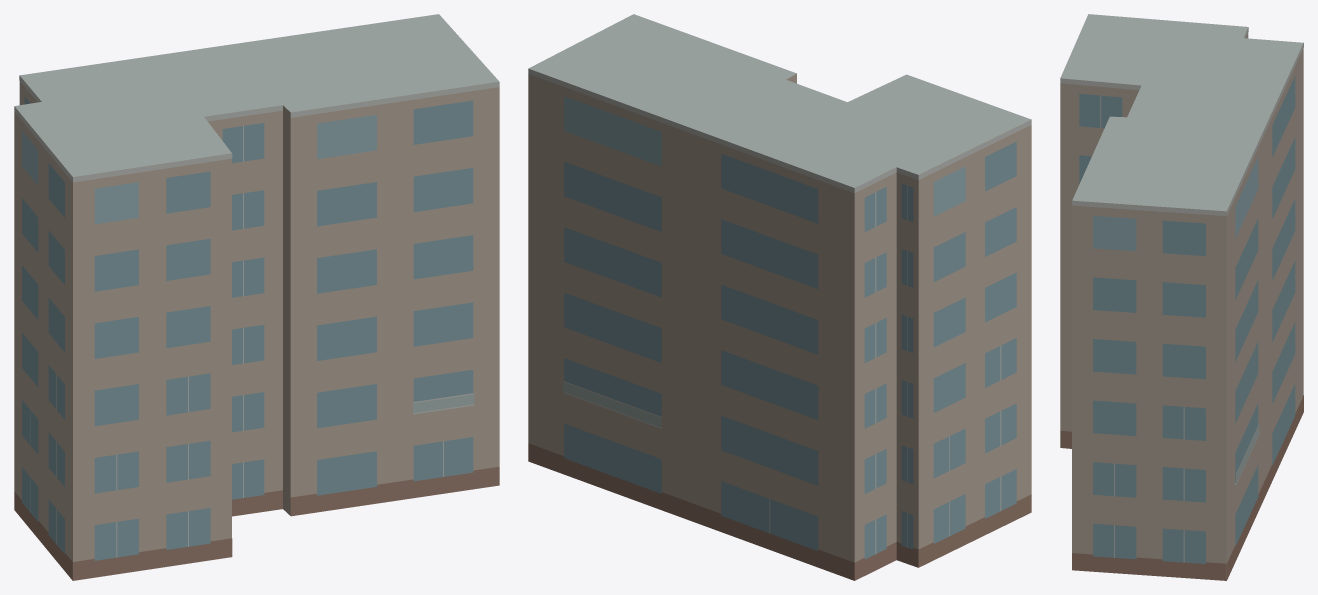
File: survey-upis-32936314.glb
3 renders of one model, left to right at view 1: azimuth 30°, elevation 25°; view 2: azimuth 150°, elevation 25°; view 3: azimuth 270°, elevation 25°, orthographic. The views are drawn at different scales.
Visible parts, largest first — view 1: survey-upis-32936314.tmp; view 2: survey-upis-32936314.tmp; view 3: survey-upis-32936314.tmp.
Part boxes in pixels (left/top/right/bottom): survey-upis-32936314.tmp: left=14, top=14, right=499, bottom=580; survey-upis-32936314.tmp: left=528, top=14, right=1031, bottom=580; survey-upis-32936314.tmp: left=1060, top=14, right=1303, bottom=580.
Bounding box in the file's own units: 21.08 × 18.4 × 11.
